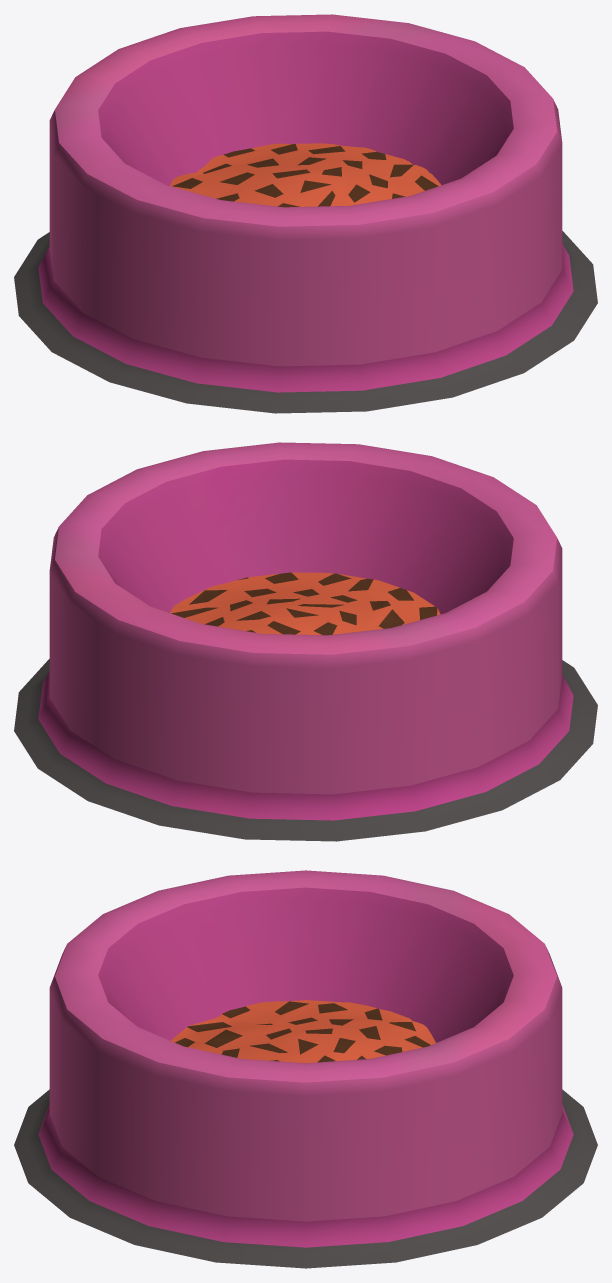
The model's file is dog_food_bowl_3.fbx.
3 renders of one model, top to bottom at view 1: azimuth 30°, elevation 25°; view 2: azimuth 150°, elevation 25°; view 3: azimuth 270°, elevation 25°, orthographic.
Visible parts, largest first — view 1: pDisc14; view 2: pDisc14; view 3: pDisc14.
Part boxes in pixels (bbox=[...]): pDisc14: bbox=[14, 14, 597, 413]; pDisc14: bbox=[14, 442, 597, 841]; pDisc14: bbox=[14, 870, 597, 1268].
Bounding box in the file's own units: 59.94 × 22.65 × 59.94.
Materials: 1 (1 with a texture image).
